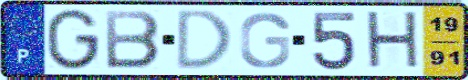5: (309, 10, 358, 72)
B: (102, 9, 163, 71)
D: (174, 8, 236, 72)
G: (44, 7, 102, 72), (237, 11, 292, 70)
H: (363, 9, 423, 73)
